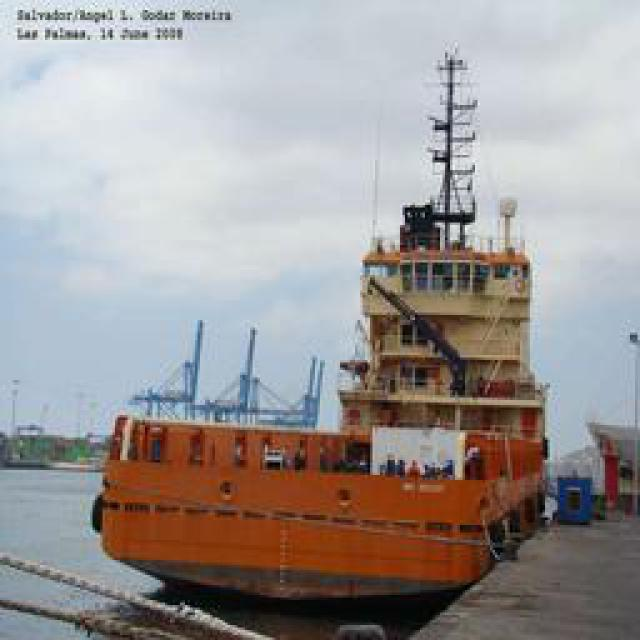Ship: (76, 222, 549, 592)
